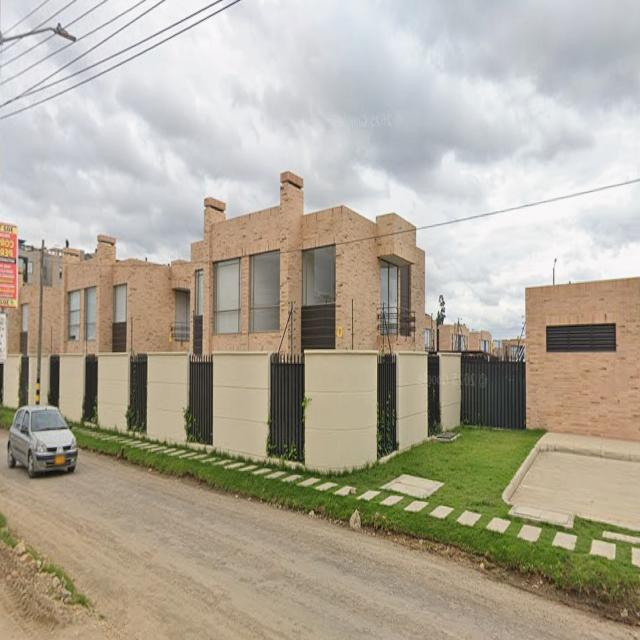Fachada: (192, 171, 428, 470), (54, 236, 175, 430), (437, 322, 470, 350), (467, 331, 491, 352)
Poste: (36, 240, 44, 404)
